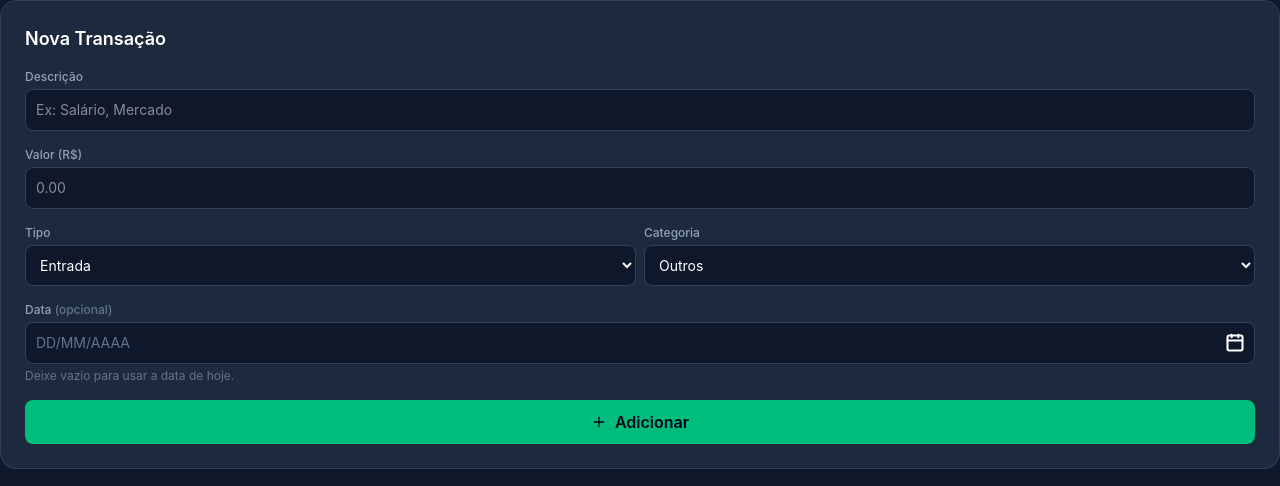
Test: TransactionForm › bloqueia envio com data inválida e mostra o erro
This screenshot has width=1280, height=486.
Type "X" into the field labelled "Descrição" at [640, 110], box [25, 89, 1255, 131]
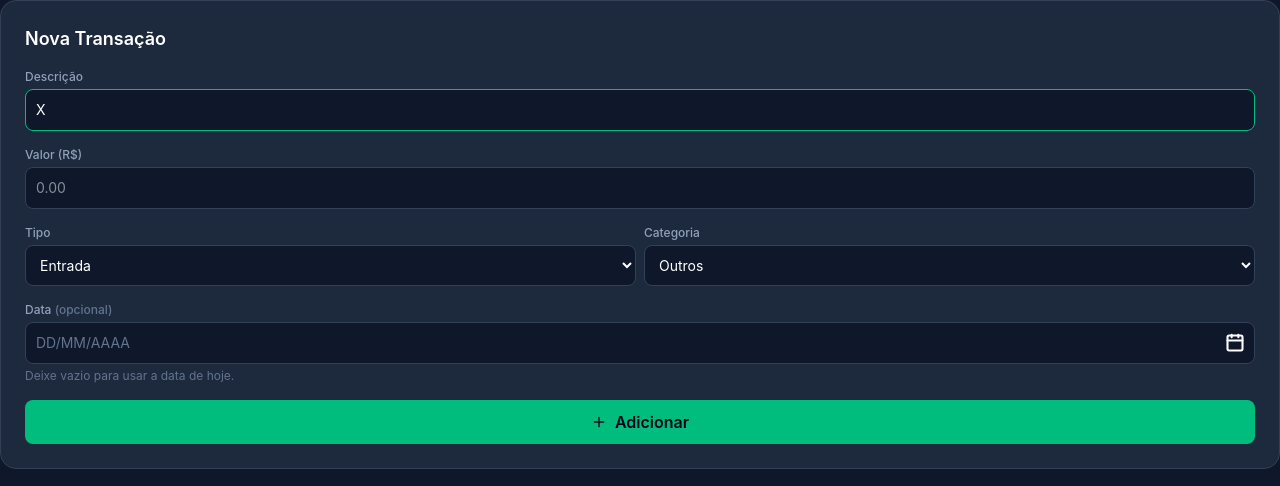
Type "10" into the number field labelled "Valor (R$)" at [640, 188], box [25, 167, 1255, 209]
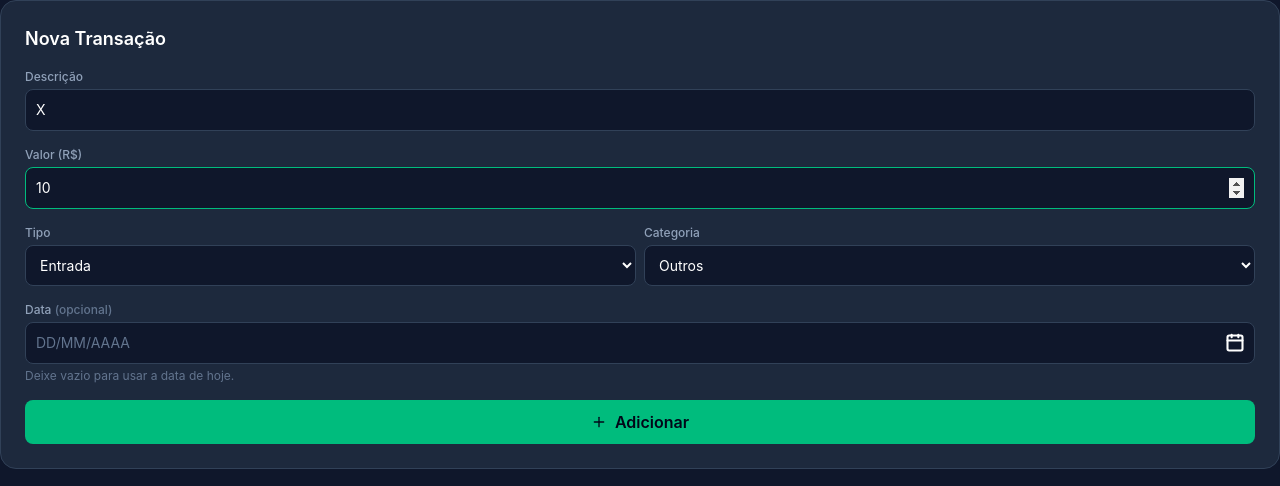
Type "31022026" into the field labelled "Data (opcional)" at [640, 343], box [25, 322, 1255, 364]
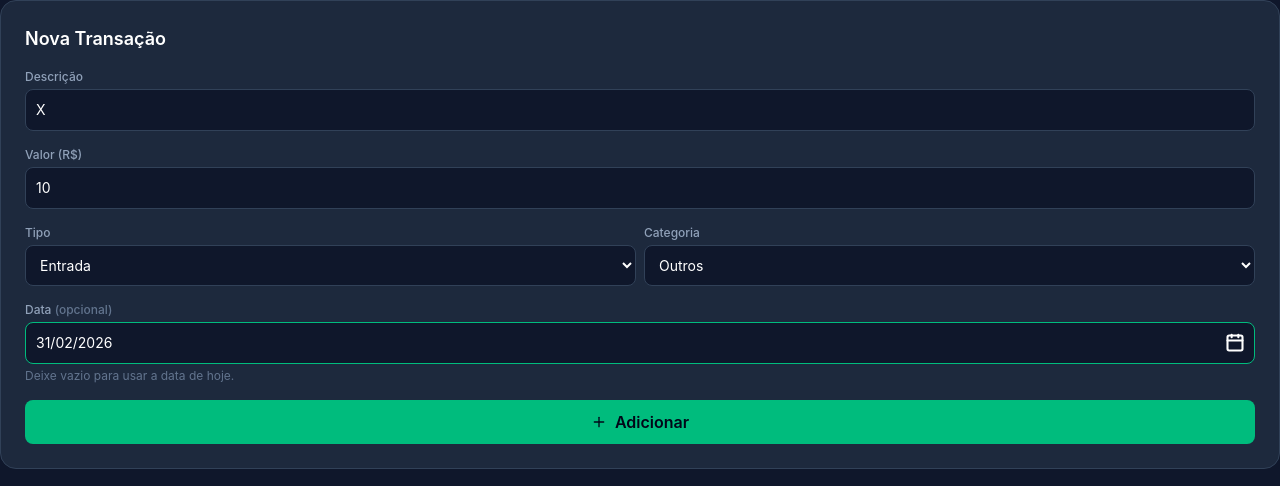
Click the button "Adicionar" at [640, 422], box [25, 400, 1255, 444]
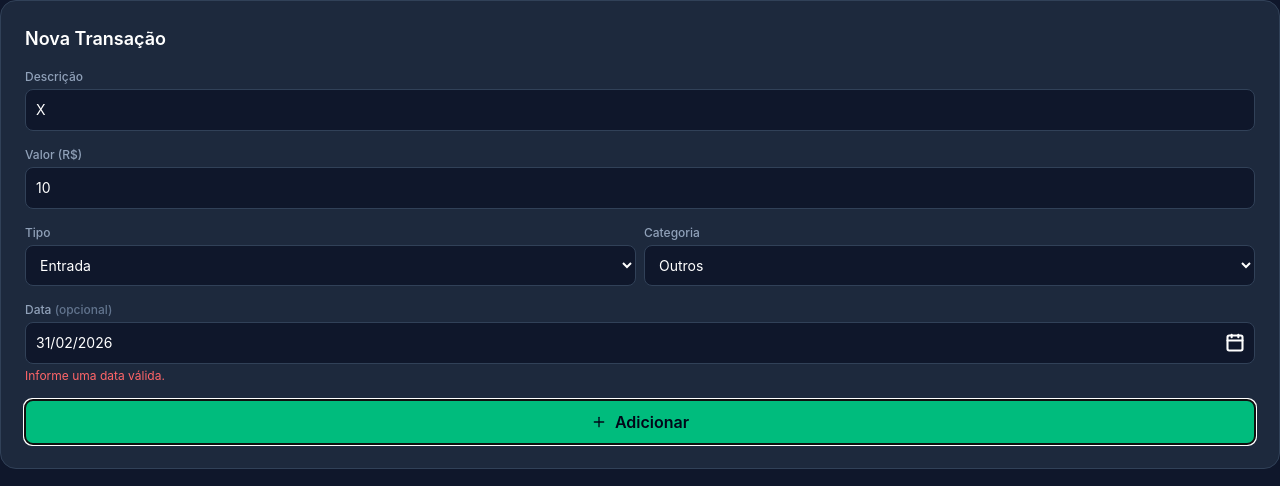
expect the text "Informe uma data válida." is shown: met, box [25, 368, 165, 383]
